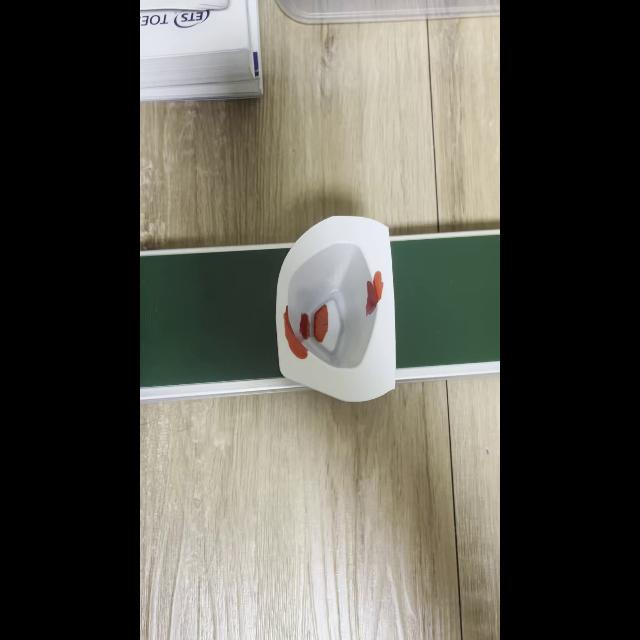dirty: (274, 216, 396, 400)
